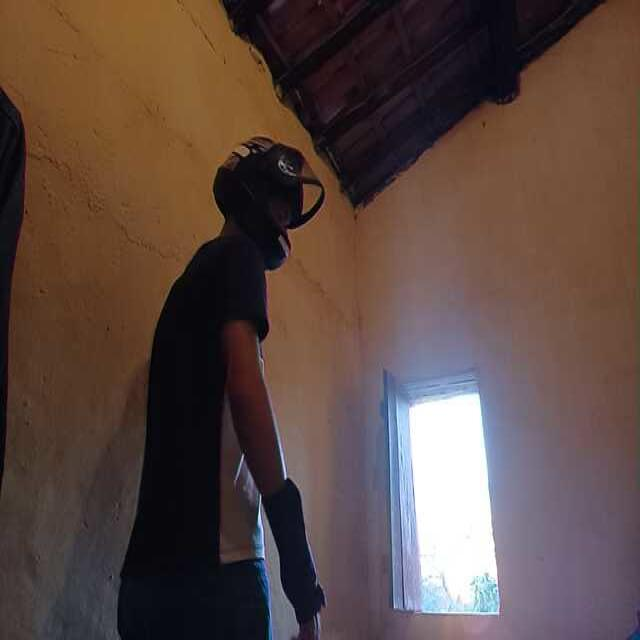capacete: (215, 126, 326, 270)
pessoa: (149, 170, 330, 640)
